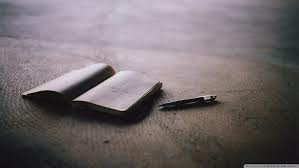pen: (154, 91, 219, 110)
